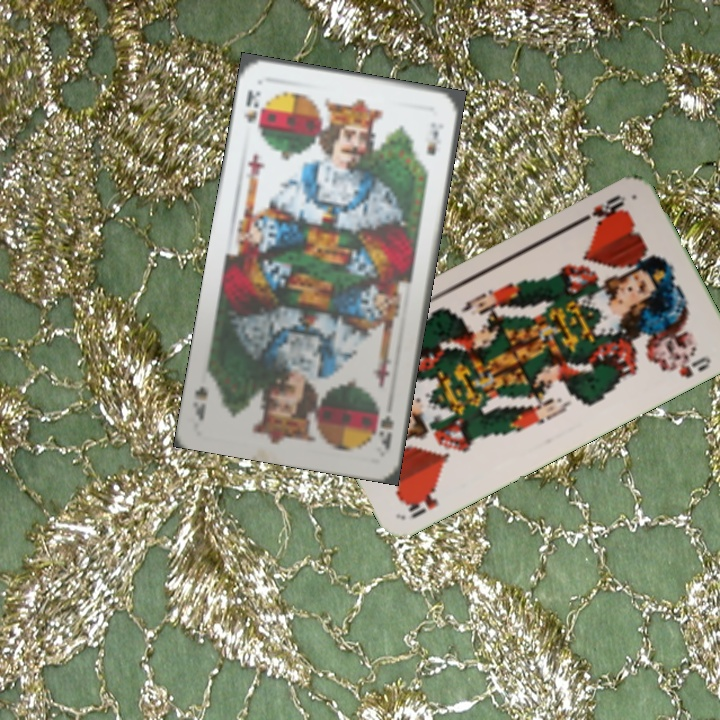HO: (575, 191, 628, 226), (400, 482, 441, 521)
SK: (371, 402, 396, 453), (239, 85, 263, 125)
